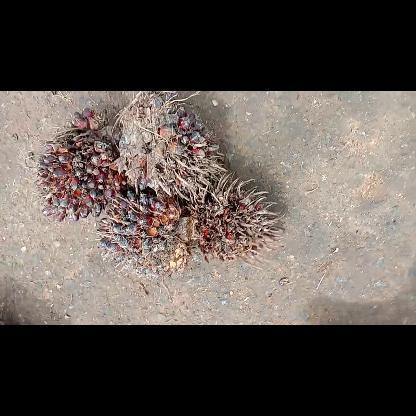TBS abnormal: (114, 90, 226, 200), (35, 107, 126, 221), (175, 173, 277, 261), (94, 191, 192, 277)
